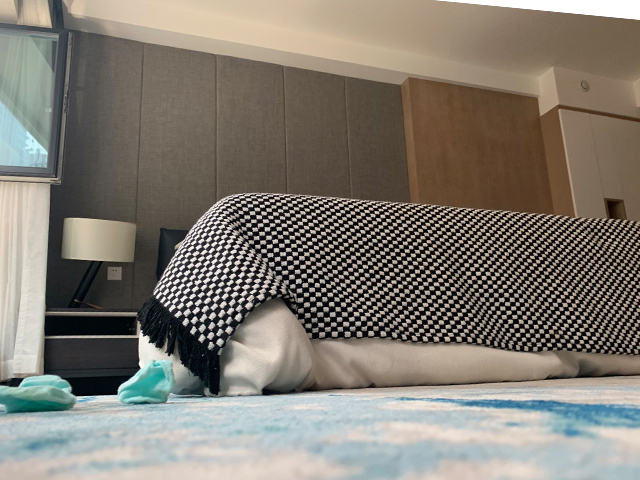bed: (139, 192, 640, 400)
cabinet: (42, 306, 142, 396)
carpet: (1, 372, 640, 480)
curtain: (1, 1, 55, 382)
socks: (1, 372, 80, 414), (116, 359, 176, 407)
